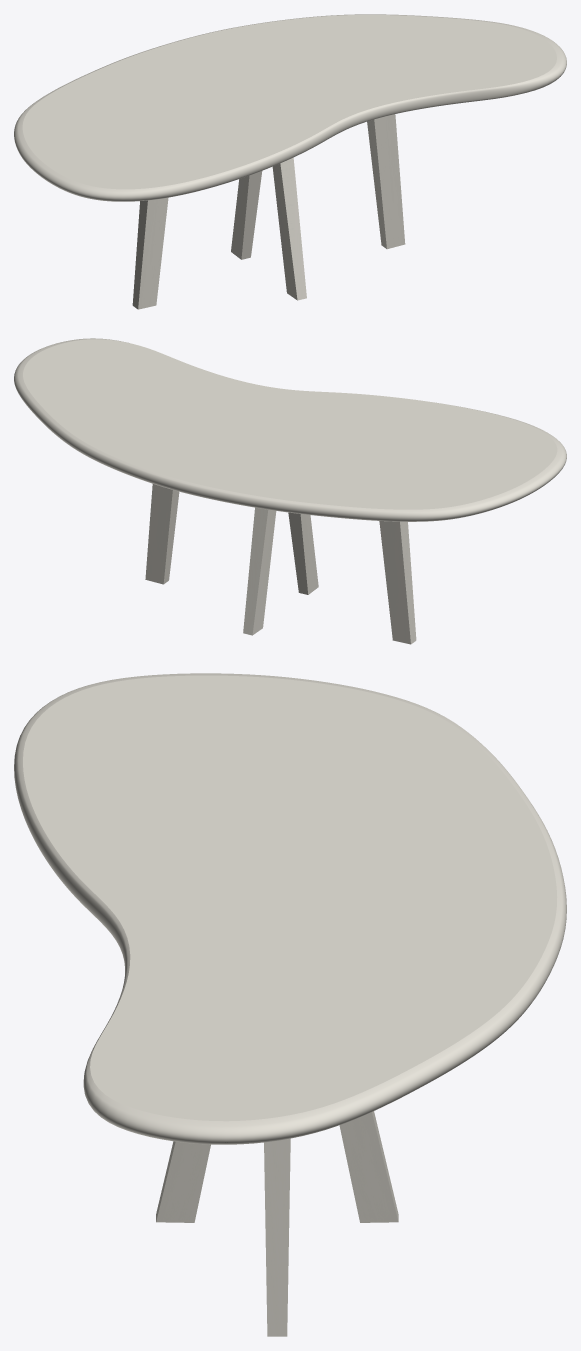
File: pale_leaf1_round_searwalnut.glb
The picture shows the model from 3 angles, top to bottom: view 1: azimuth 30°, elevation 25°; view 2: azimuth 150°, elevation 25°; view 3: azimuth 270°, elevation 25°; orthographic projection. The views are drawn at different scales.
Visible parts, largest first — view 1: round_leaf1, searwalnut; view 2: round_leaf1, searwalnut; view 3: round_leaf1, searwalnut.
Boxes of the visible parts, left/top/right/bottom form: round_leaf1: left=14, top=14, right=566, bottom=201; searwalnut: left=132, top=114, right=405, bottom=309; round_leaf1: left=14, top=338, right=566, bottom=521; searwalnut: left=145, top=484, right=416, bottom=644; round_leaf1: left=14, top=673, right=566, bottom=1144; searwalnut: left=156, top=1111, right=398, bottom=1336.
Bounding box in the file's own units: 7.5 × 2.5 × 3.8.
1 material, 1 textured.
